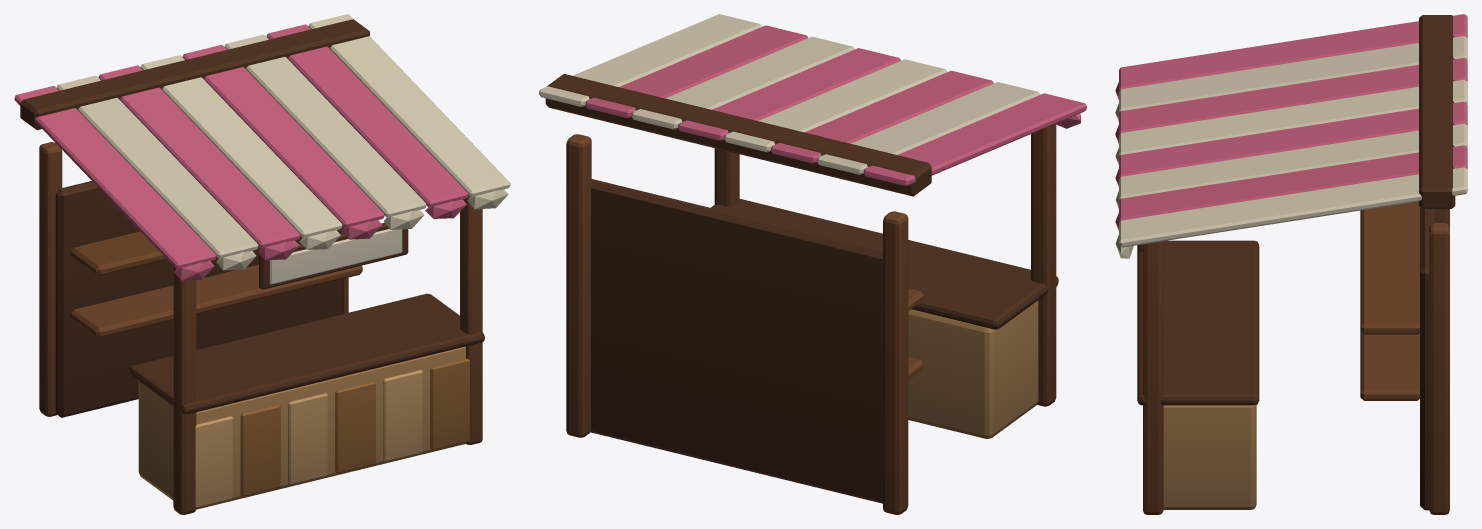
File: stall_pink.glb
The picture shows the model from 3 angles, left to right: view 1: azimuth 30°, elevation 25°; view 2: azimuth 150°, elevation 25°; view 3: azimuth 270°, elevation 25°; orthographic projection. The views are drawn at different scales.
Visible parts, largest first — view 1: stall_pink; view 2: stall_pink; view 3: stall_pink.
Part boxes in pixels (x1,y1,x2,y2): stall_pink: (14, 14, 510, 514); stall_pink: (539, 14, 1086, 514); stall_pink: (1115, 14, 1467, 514).
Size of the model in its own units: 3.4 by 3.06 by 2.89.
